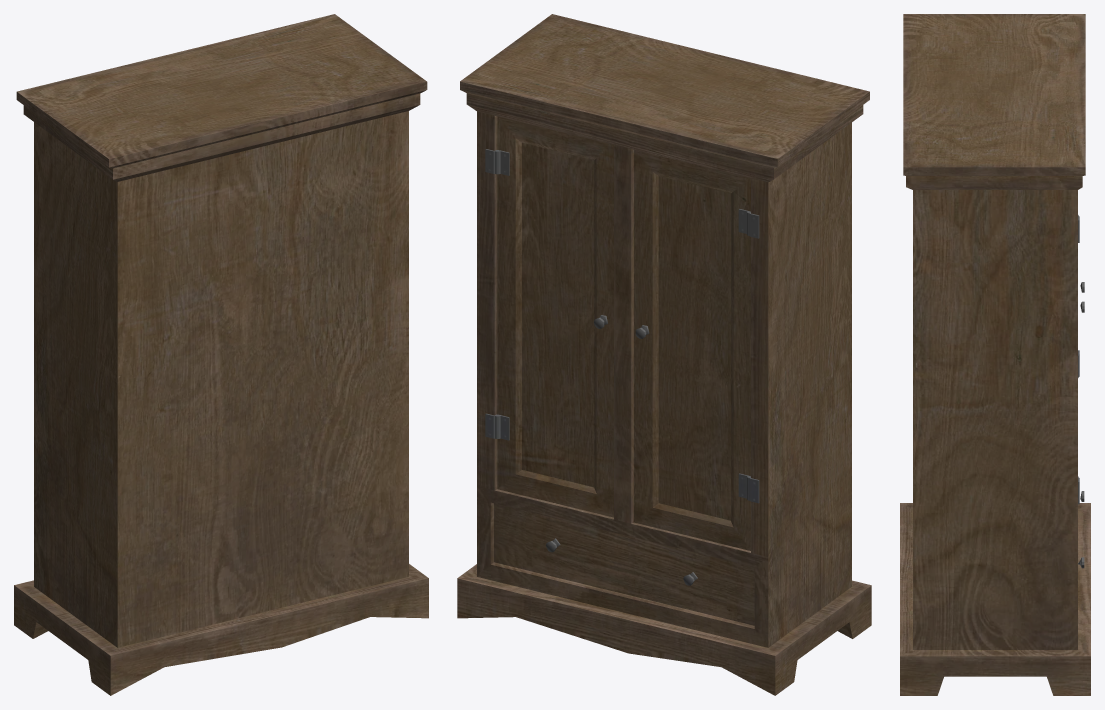
The model's file is closet-old.glb.
3 views of the same model, side by side, from view 1: azimuth 30°, elevation 25°; view 2: azimuth 150°, elevation 25°; view 3: azimuth 270°, elevation 25° (orthographic).
Parts seen in each view (by area): view 1: Closet; view 2: Closet; view 3: Closet.
Part boxes in pixels (<box>): Closet: <box>14,14,428,695</box>; Closet: <box>457,14,871,695</box>; Closet: <box>900,14,1090,695</box>.
Bounding box in the file's own units: 1.32 × 2.12 × 0.6924.
Materials: 1 (1 with a texture image).
